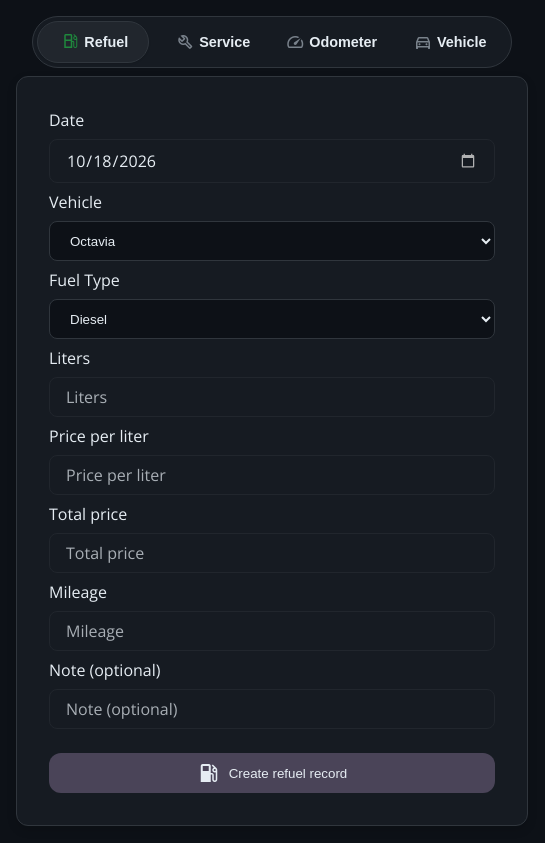
Test: AddView › mode switching › updates the url when switching mode
The image size is (545, 843).
Click the tab "Odometer" at (331, 42), box [274,21,388,63]
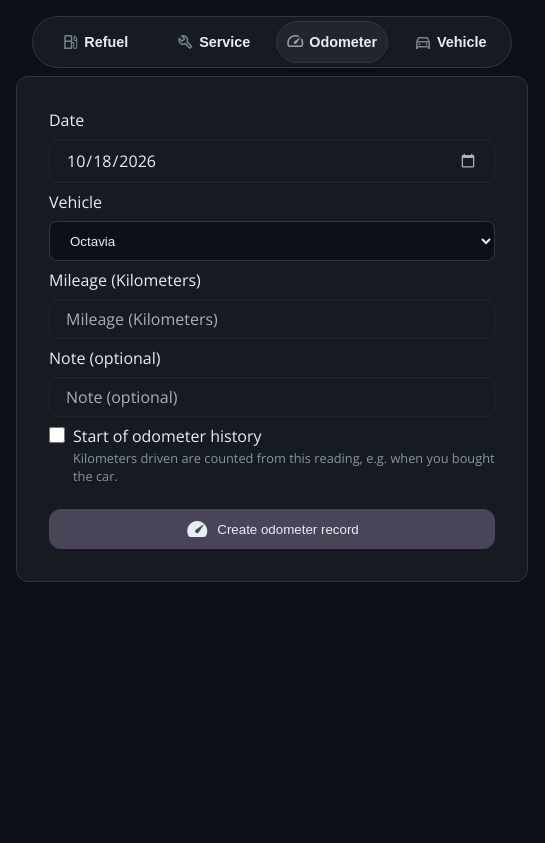
Now the text "Create odometer record" is shown, box [217,522,359,537]
